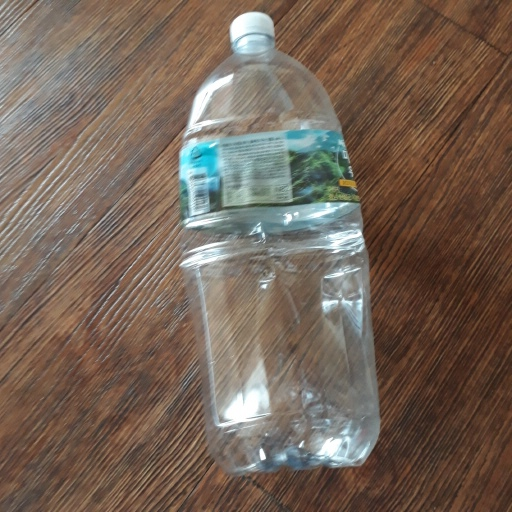Plastic_0: (174, 11, 382, 472)
